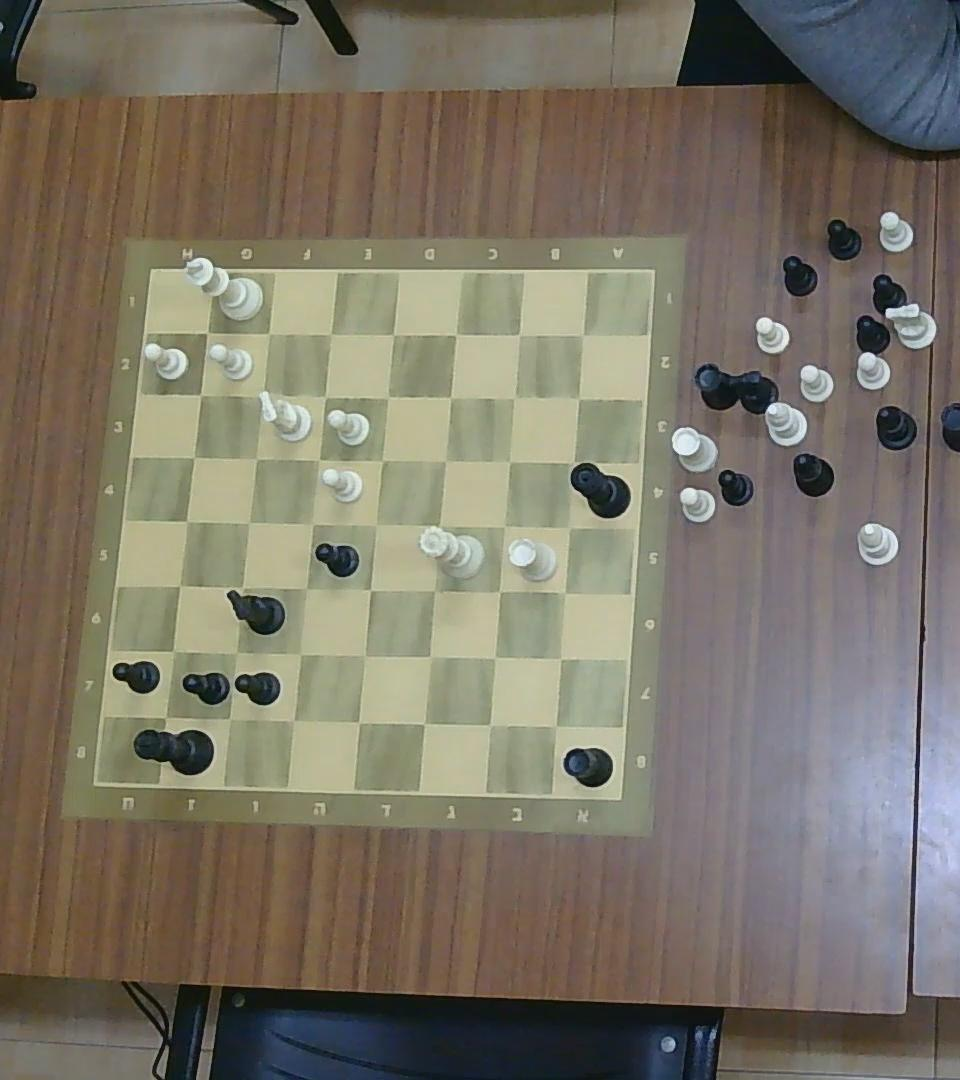xcorner: (215, 705, 241, 732), (279, 707, 305, 734), (411, 710, 437, 737), (153, 703, 179, 730), (417, 642, 443, 669), (543, 713, 569, 740), (477, 712, 503, 738), (352, 641, 377, 668), (486, 578, 511, 605), (547, 644, 572, 671), (369, 447, 394, 473), (167, 572, 192, 598), (425, 513, 450, 539), (287, 639, 311, 666), (346, 709, 371, 734), (379, 321, 404, 346), (481, 645, 506, 670), (174, 508, 198, 534), (375, 383, 399, 409), (421, 577, 445, 603), (491, 513, 515, 539), (223, 640, 247, 665), (237, 510, 261, 535), (552, 579, 576, 604), (358, 576, 382, 601), (558, 448, 582, 473), (229, 574, 253, 599), (196, 319, 219, 345), (162, 638, 185, 664), (318, 321, 341, 346), (294, 576, 317, 601), (438, 384, 461, 408), (300, 512, 323, 536), (558, 514, 581, 538), (364, 512, 387, 536), (257, 320, 280, 344), (188, 381, 211, 405), (250, 381, 273, 405), (570, 322, 594, 345), (443, 322, 466, 345), (306, 447, 329, 470), (182, 445, 204, 469), (433, 448, 455, 472), (245, 445, 267, 469), (498, 448, 520, 472), (313, 384, 335, 408), (508, 322, 530, 345), (503, 386, 524, 409), (567, 387, 588, 409)
